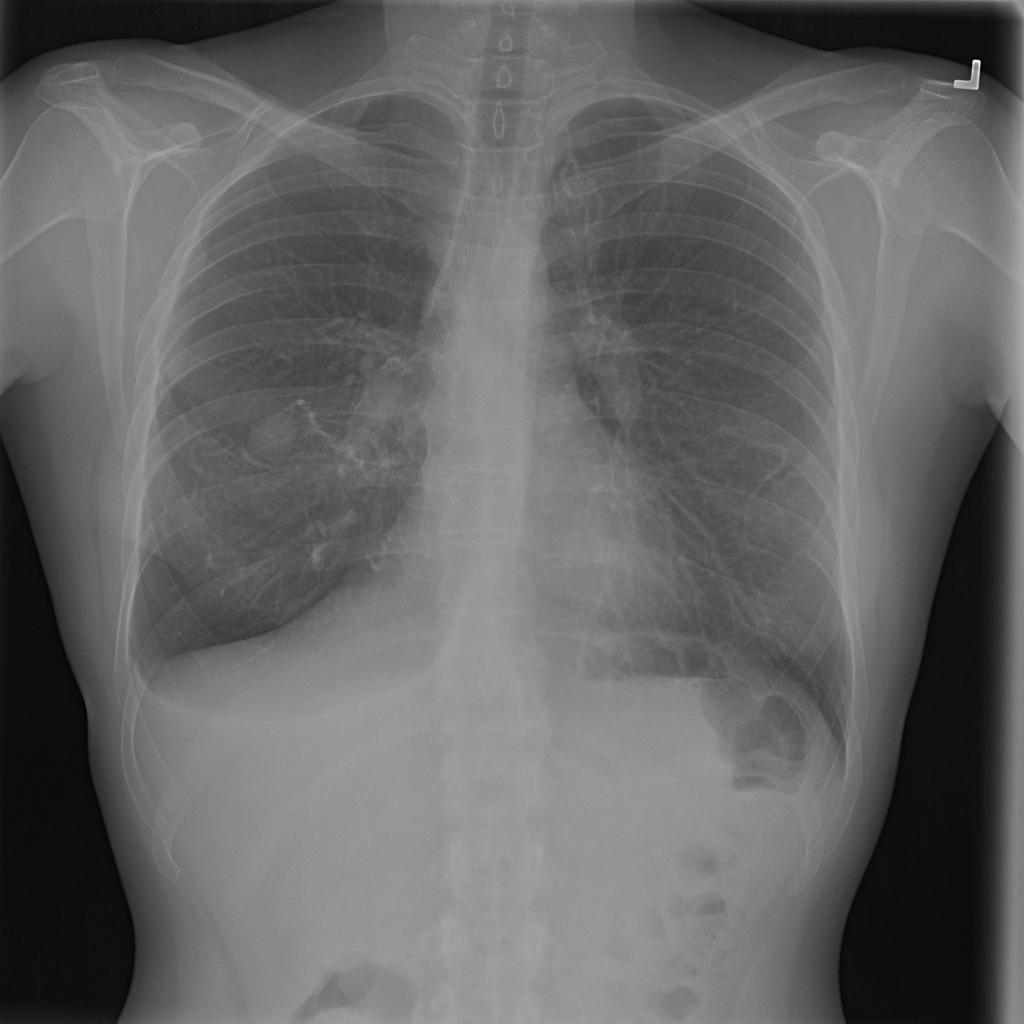nodule: (235, 400, 311, 468)
